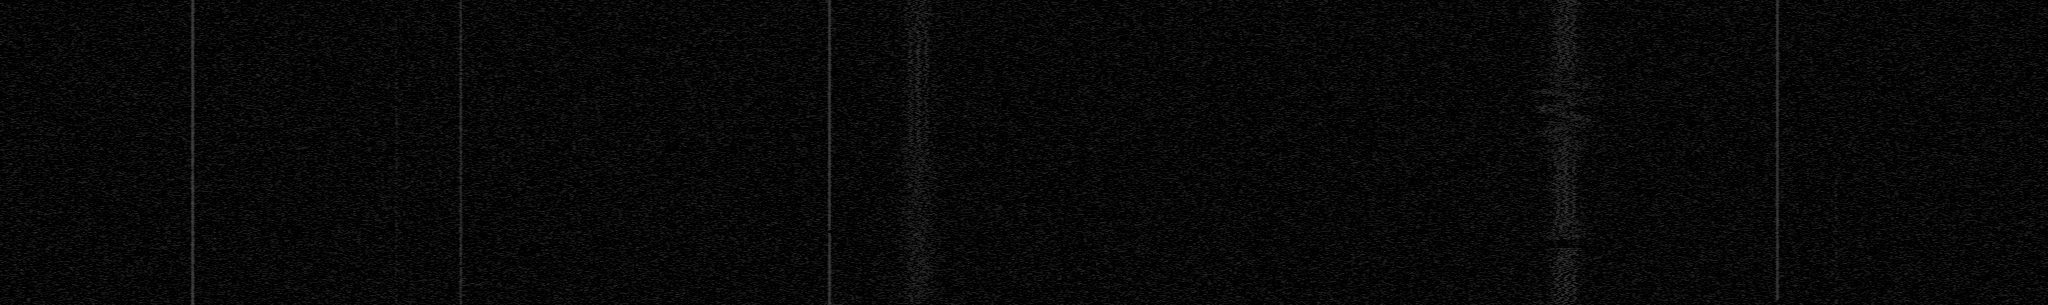wv_am: (182, 0, 202, 305), (455, 0, 468, 305)
wv_cw: (1775, 0, 1780, 300), (822, 233, 839, 305), (827, 0, 832, 229)
wv_lsb: (1834, 168, 1838, 189), (1834, 225, 1838, 237), (1834, 274, 1838, 284), (1834, 262, 1838, 272), (1834, 214, 1838, 224), (1834, 65, 1838, 76), (1834, 285, 1838, 295), (1834, 250, 1838, 259), (1834, 239, 1838, 248), (1834, 203, 1838, 212), (1834, 192, 1838, 201), (1834, 22, 1838, 31), (1834, 7, 1838, 16), (1835, 50, 1838, 63), (1834, 297, 1838, 305), (1834, 86, 1838, 93), (1834, 42, 1838, 48), (1834, 33, 1838, 39)
wv_usb: (393, 193, 400, 305), (394, 77, 398, 190), (394, 47, 398, 76), (394, 20, 398, 44), (394, 7, 398, 16)
wv_wbfm: (883, 0, 951, 305), (1522, 0, 1607, 240), (1539, 248, 1592, 305)
